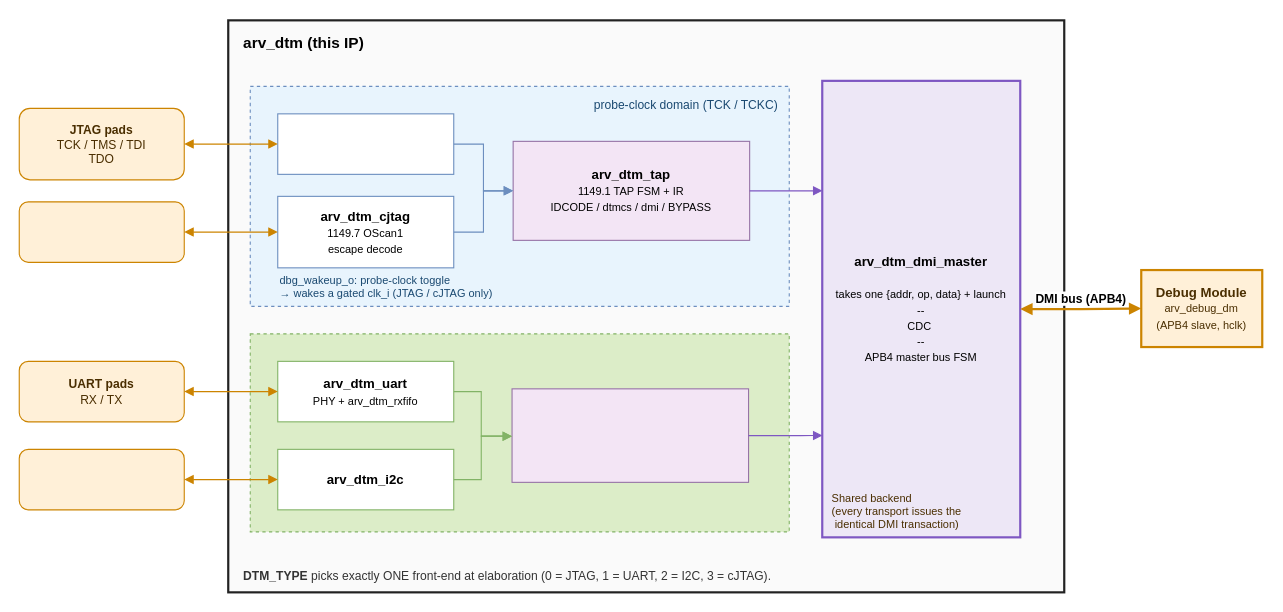
Some shapes in this 1283 by 612 pixel diagram are drawn without their labels. Each missing label, with the box of its shape:
arv_dtm_cmd byte-stream ⇆ DMI ("DMI over serial"): (511, 388, 749, 482)
arv_dtm_jtag: (277, 113, 454, 174)
cJTAG pads TCKC TMSC (bidir, keeper): (18, 201, 184, 262)
clk_i domain (SoC always-on oscillator): (249, 333, 789, 532)
I2C pads SCL / SDA (open-drain): (18, 448, 184, 510)
